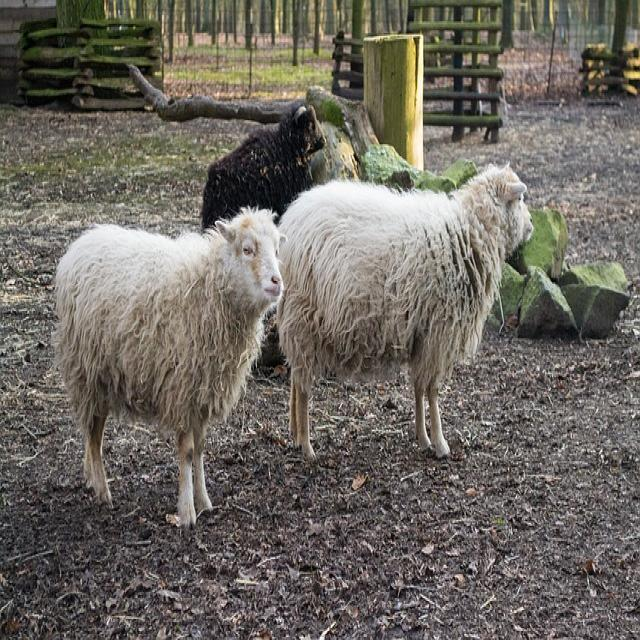goat: (278, 165, 531, 459), (56, 208, 282, 527)
